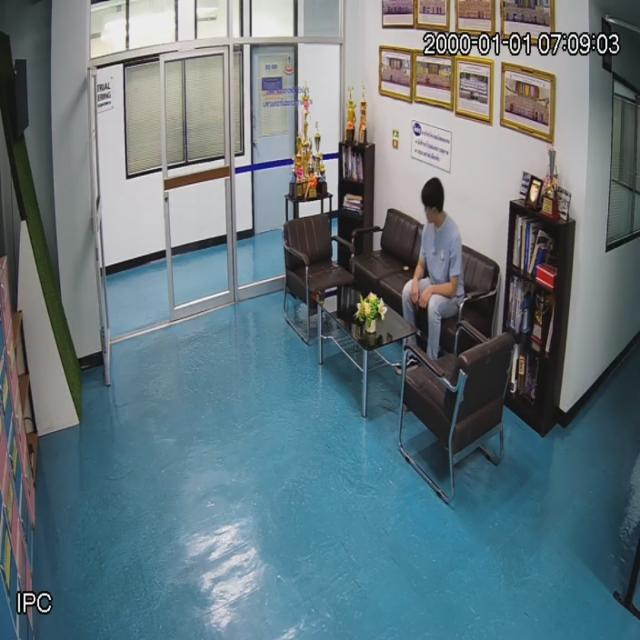normal: (401, 179, 468, 325)
